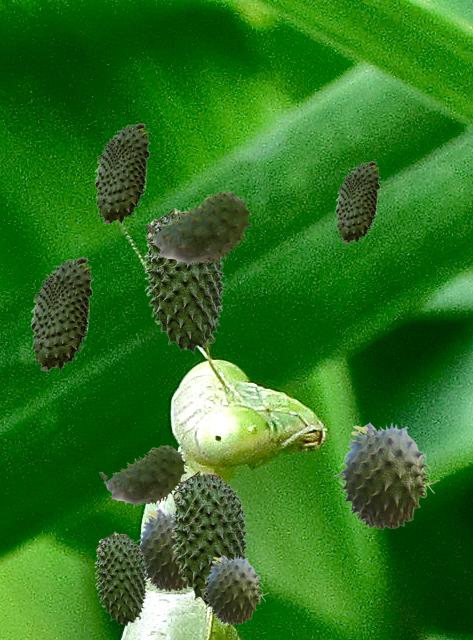guyabano: (143, 207, 225, 352), (333, 421, 439, 529), (170, 469, 248, 606), (145, 191, 251, 267), (30, 257, 92, 370), (94, 123, 149, 223), (99, 445, 186, 507), (94, 531, 147, 625), (200, 554, 268, 624), (136, 508, 187, 591), (335, 161, 379, 242)
